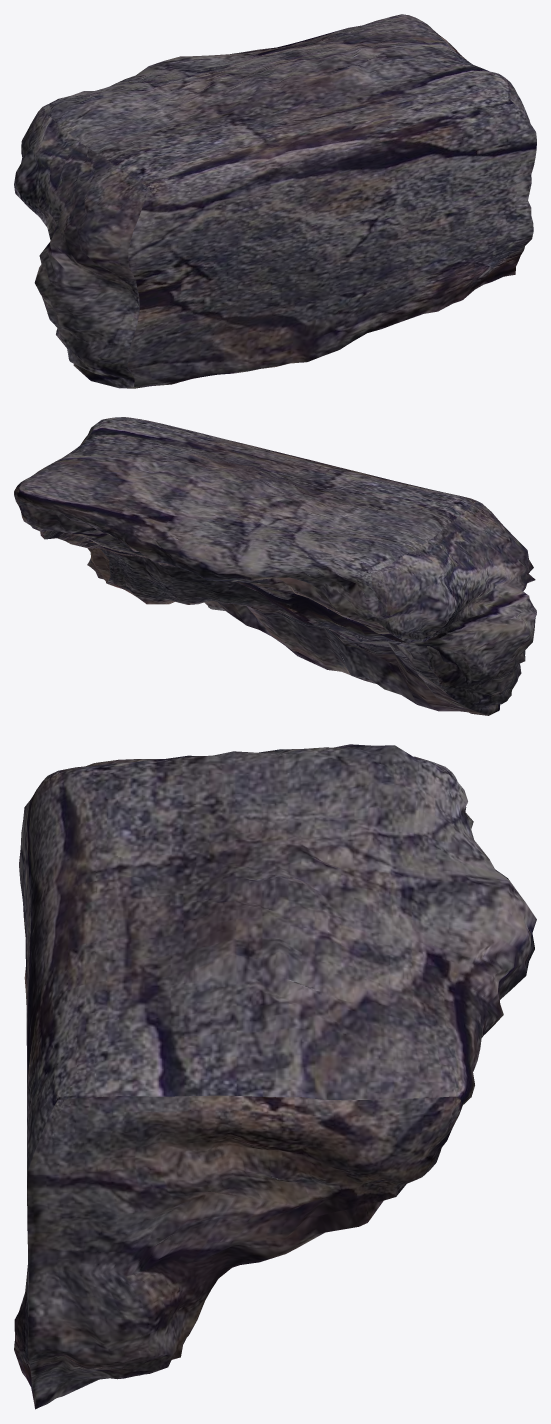
File: TopPlatform1.fbx
3 views of the same model, one above another, from view 1: azimuth 30°, elevation 25°; view 2: azimuth 150°, elevation 25°; view 3: azimuth 270°, elevation 25° (orthographic). The views are drawn at different scales.
Parts seen in each view (by area): view 1: Верхняя платформа 1; view 2: Верхняя платформа 1; view 3: Верхняя платформа 1.
Part boxes in pixels (<box>): Верхняя платформа 1: <box>14,14,536,388</box>; Верхняя платформа 1: <box>14,417,536,715</box>; Верхняя платформа 1: <box>14,744,536,1409</box>.
Bounding box in the file's own units: 3709 × 1782 × 1947.
